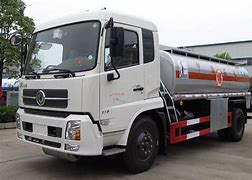oil truck: (17, 12, 249, 171)
